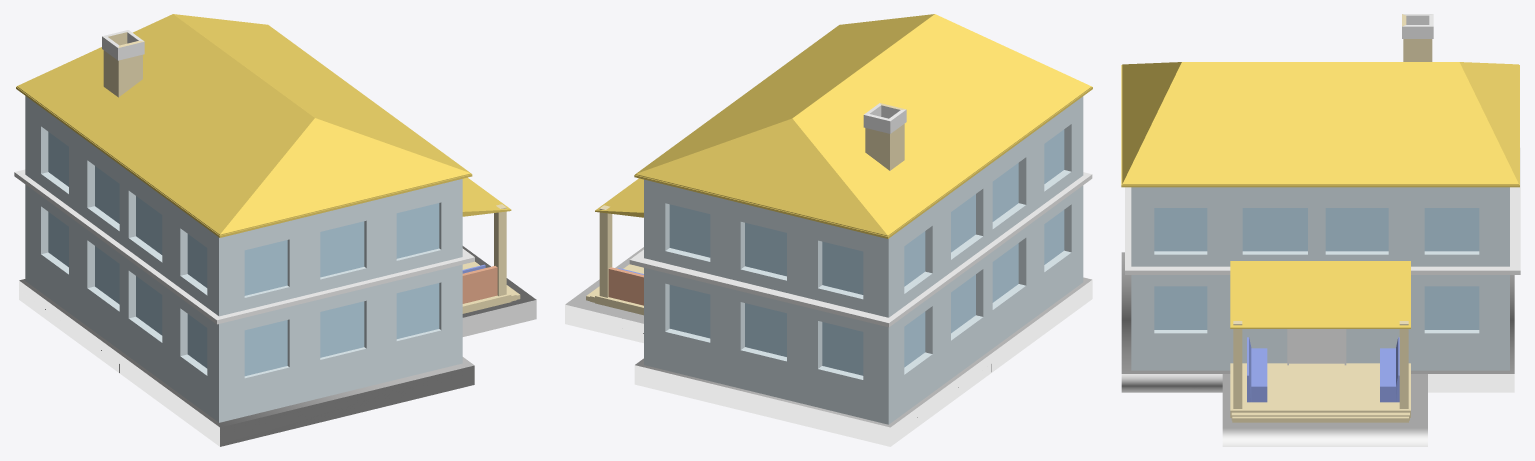
Rendered from house-yellow.glb.
The picture shows the model from 3 angles, left to right: view 1: azimuth 30°, elevation 25°; view 2: azimuth 150°, elevation 25°; view 3: azimuth 270°, elevation 25°; orthographic projection. The views are drawn at different scales.
Visible parts, largest first — view 1: Объект_Куб_4_2; view 2: Объект_Куб_4_2; view 3: Объект_Куб_4_2.
Part boxes in pixels (bbox=[...]): Объект_Куб_4_2: bbox=[14, 14, 536, 446]; Объект_Куб_4_2: bbox=[565, 14, 1092, 446]; Объект_Куб_4_2: bbox=[1121, 14, 1520, 446].
Size of the model in its own units: 2.64 by 1.94 by 2.52.
